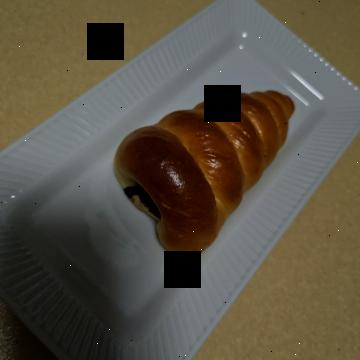cream horn: (73, 42, 284, 255)
